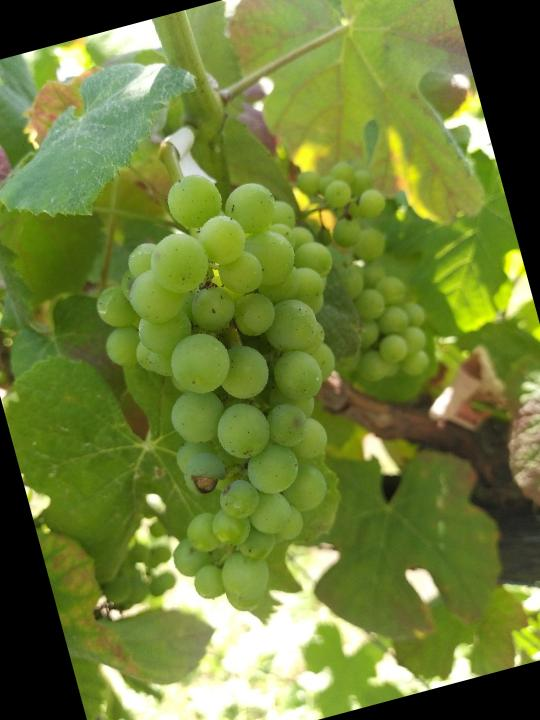grape: (62, 140, 417, 638)
